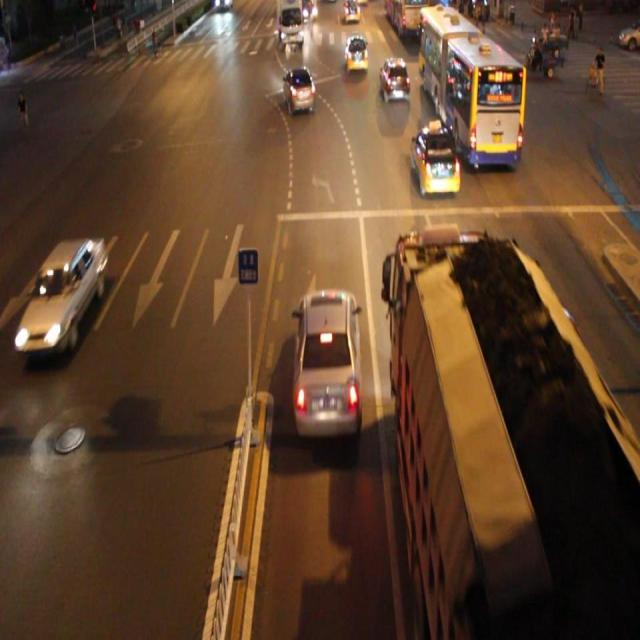bus: (392, 233, 640, 640)
car: (289, 287, 362, 435), (22, 238, 106, 356), (410, 125, 459, 197), (283, 67, 315, 116), (379, 58, 409, 102)
van: (418, 1, 521, 167)
